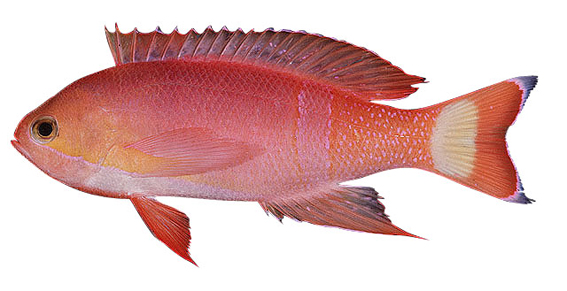fish: (10, 22, 539, 268)
